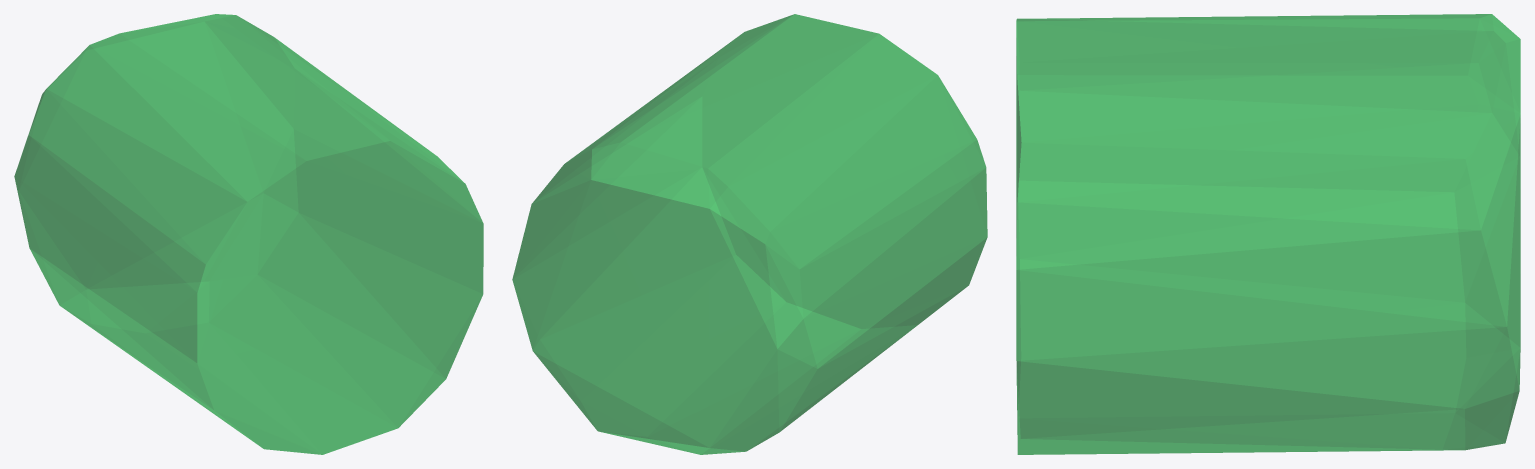
3 renders of one model, left to right at view 1: azimuth 30°, elevation 25°; view 2: azimuth 150°, elevation 25°; view 3: azimuth 270°, elevation 25°, orthographic. The views are drawn at different scales.
Parts seen in each view (by area): view 1: Shape_IndexedFaceSet.001_Shape_IndexedFaceSet.4755; view 2: Shape_IndexedFaceSet.001_Shape_IndexedFaceSet.4755; view 3: Shape_IndexedFaceSet.001_Shape_IndexedFaceSet.4755.
Boxes of the visible parts, x1,y1,x2,y2 form: Shape_IndexedFaceSet.001_Shape_IndexedFaceSet.4755: (14, 14, 483, 454); Shape_IndexedFaceSet.001_Shape_IndexedFaceSet.4755: (512, 14, 987, 454); Shape_IndexedFaceSet.001_Shape_IndexedFaceSet.4755: (1016, 14, 1520, 454).
Bounding box in the file's own units: 0.2508 × 0.2506 × 0.2966.
